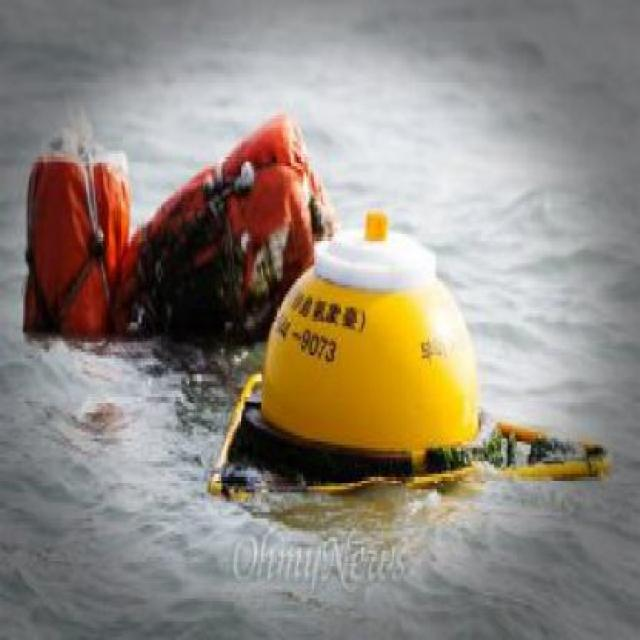a: (233, 202, 509, 494)
